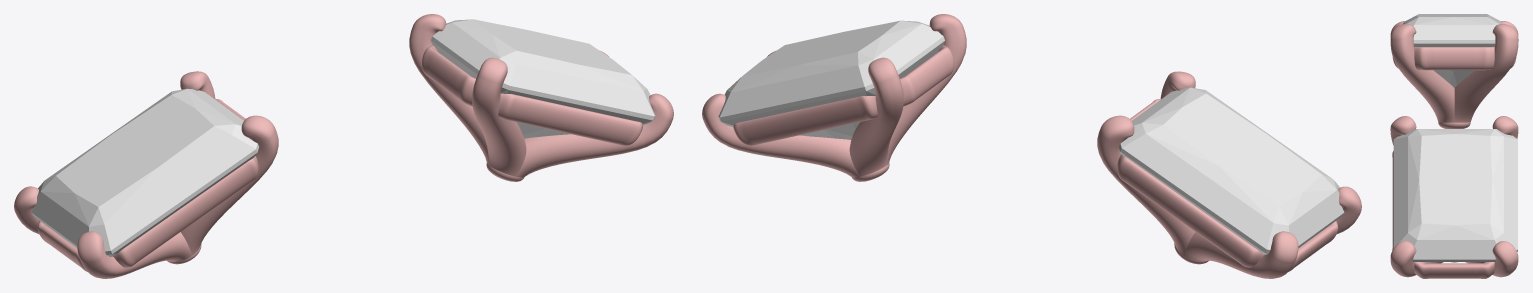
File: BAGUETTE.glb
The picture shows the model from 3 angles, left to right: view 1: azimuth 30°, elevation 25°; view 2: azimuth 150°, elevation 25°; view 3: azimuth 270°, elevation 25°; orthographic projection. The views are drawn at different scales.
Parts seen in each view (by area): view 1: emerald.002; view 2: emerald.002; view 3: emerald.002.
Part boxes in pixels (left/top/right/bottom): emerald.002: left=14, top=14, right=673, bottom=278; emerald.002: left=702, top=14, right=1361, bottom=278; emerald.002: left=1390, top=14, right=1518, bottom=278.
Size of the model in its own units: 10.82 by 2.68 by 2.52.
